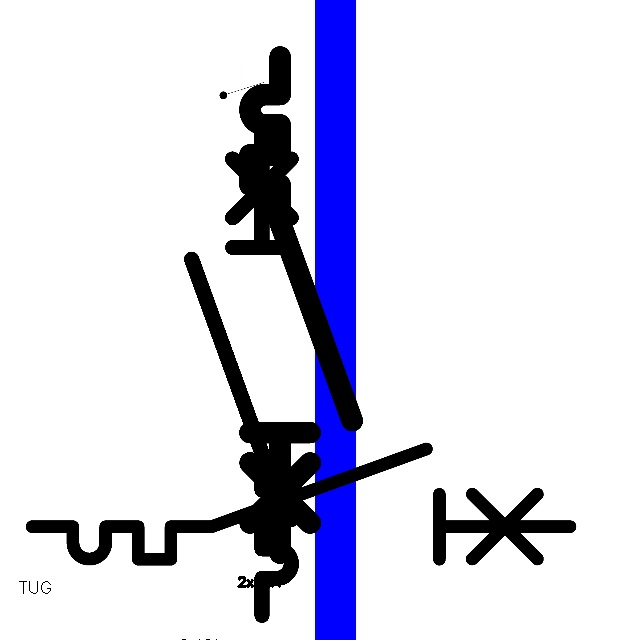interruptor_termomagnetico: (18, 435, 584, 573), (237, 44, 365, 566), (179, 116, 304, 627)
